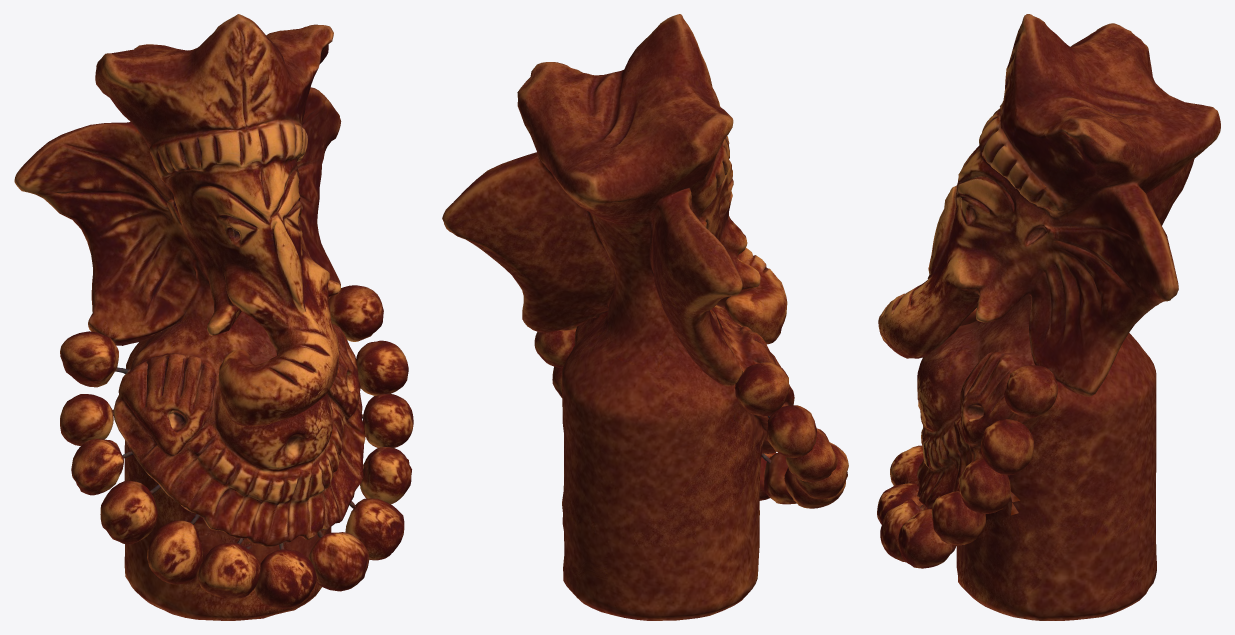
Rendered from mud-ganesha.glb.
The picture shows the model from 3 angles, left to right: view 1: azimuth 30°, elevation 25°; view 2: azimuth 150°, elevation 25°; view 3: azimuth 270°, elevation 25°; orthographic projection. The views are drawn at different scales.
Parts seen in each view (by area): view 1: mud-ganesha; view 2: mud-ganesha; view 3: mud-ganesha.
Part boxes in pixels (left/top/right/bottom): mud-ganesha: left=14, top=14, right=413, bottom=620; mud-ganesha: left=442, top=14, right=848, bottom=620; mud-ganesha: left=877, top=14, right=1220, bottom=620.
Bounding box in the file's own units: 0.2174 × 0.36 × 0.1978.
Materials: 1 (1 with a texture image).
